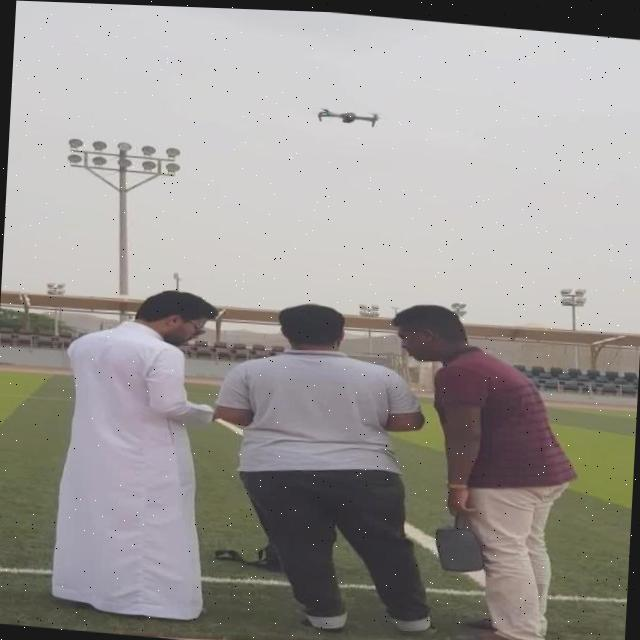drone: (309, 99, 385, 130)
